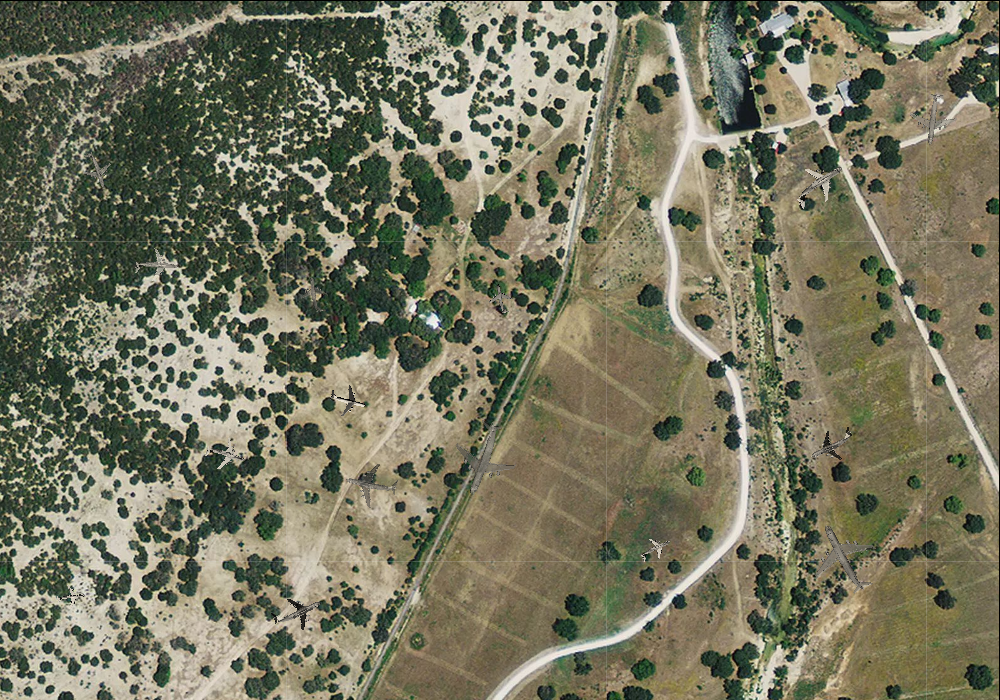plane: (796, 508, 894, 608), (435, 410, 529, 506), (783, 149, 857, 221), (263, 581, 328, 642), (340, 454, 402, 514), (802, 416, 861, 472), (906, 90, 961, 147), (199, 430, 250, 479), (73, 146, 118, 193), (325, 378, 369, 421), (133, 245, 178, 287), (635, 530, 677, 569), (296, 274, 333, 314), (485, 281, 517, 315), (54, 583, 85, 612)
